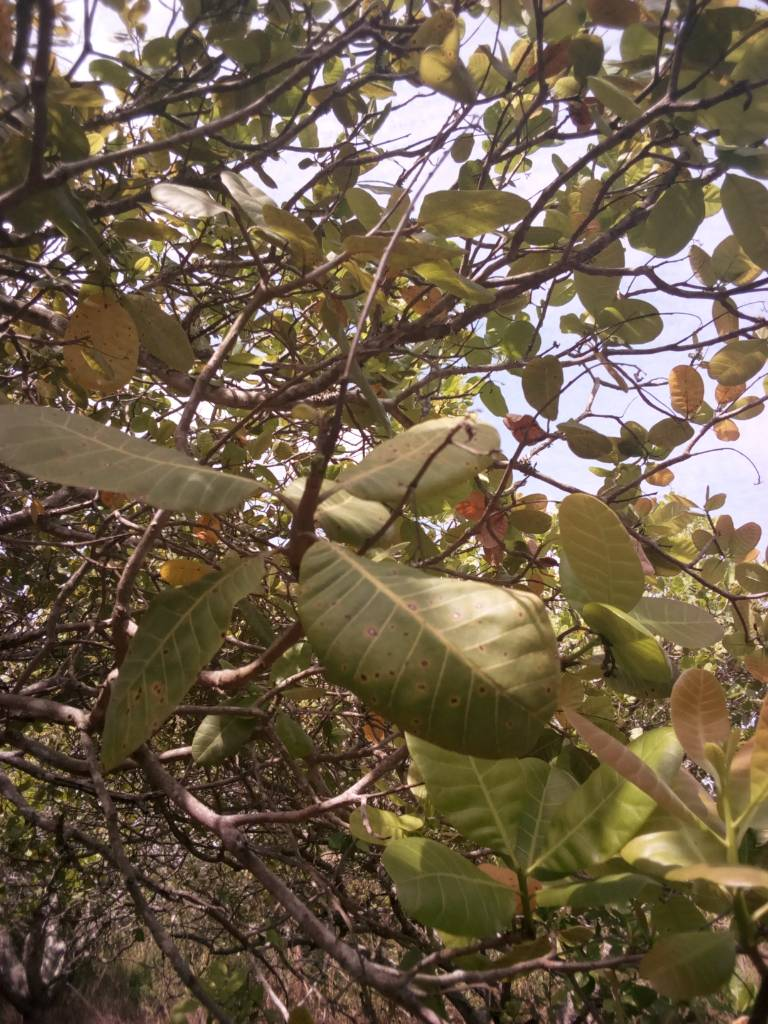Pestalotiose: (302, 530, 554, 758), (94, 560, 265, 783)
